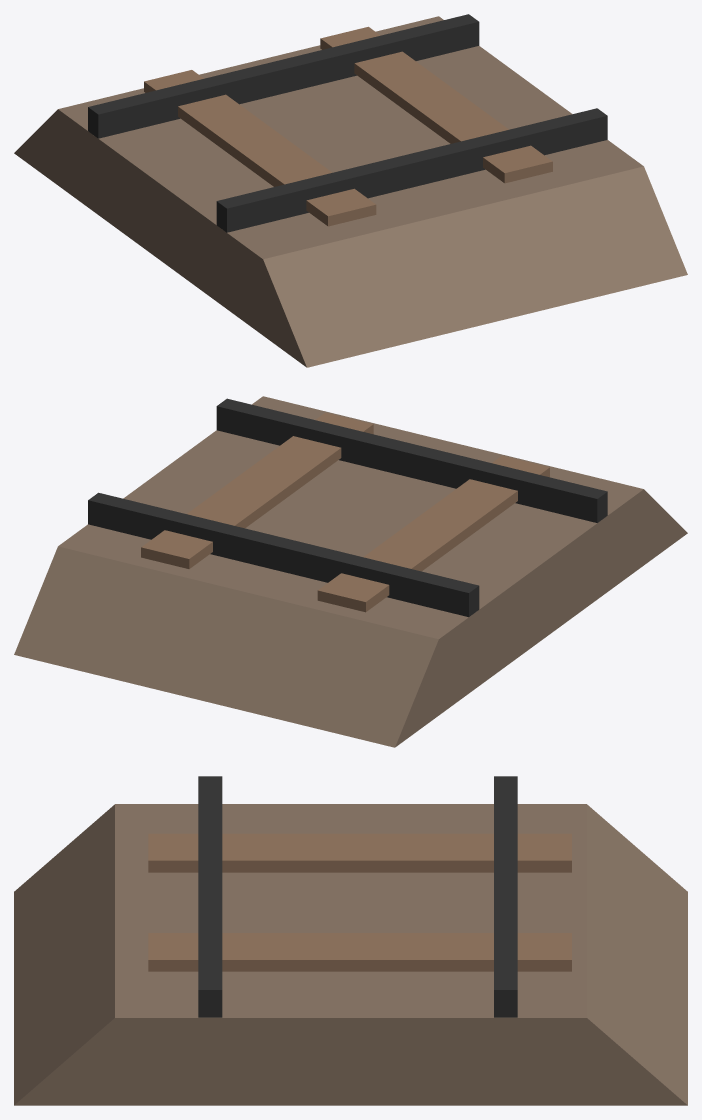
File: Rail.fbx
The picture shows the model from 3 angles, top to bottom: view 1: azimuth 30°, elevation 25°; view 2: azimuth 150°, elevation 25°; view 3: azimuth 270°, elevation 25°; orthographic projection. The views are drawn at different scales.
Parts seen in each view (by area): view 1: Cube.039; view 2: Cube.039; view 3: Cube.039.
Boxes of the visible parts, x1,y1,x2,y2 form: Cube.039: [14, 14, 687, 367]; Cube.039: [14, 396, 687, 747]; Cube.039: [14, 776, 687, 1105].
Bounding box in the file's own units: 24.5 × 6.17 × 32.65.
